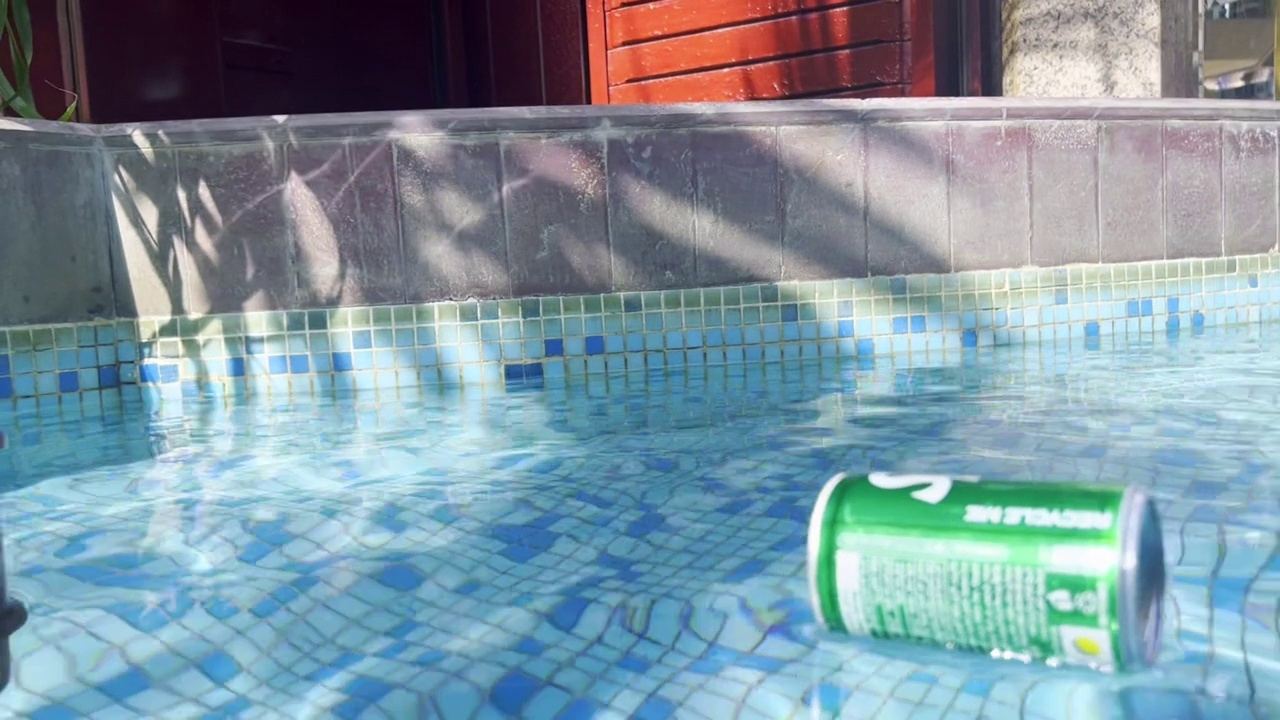debris: (799, 452, 1175, 684)
